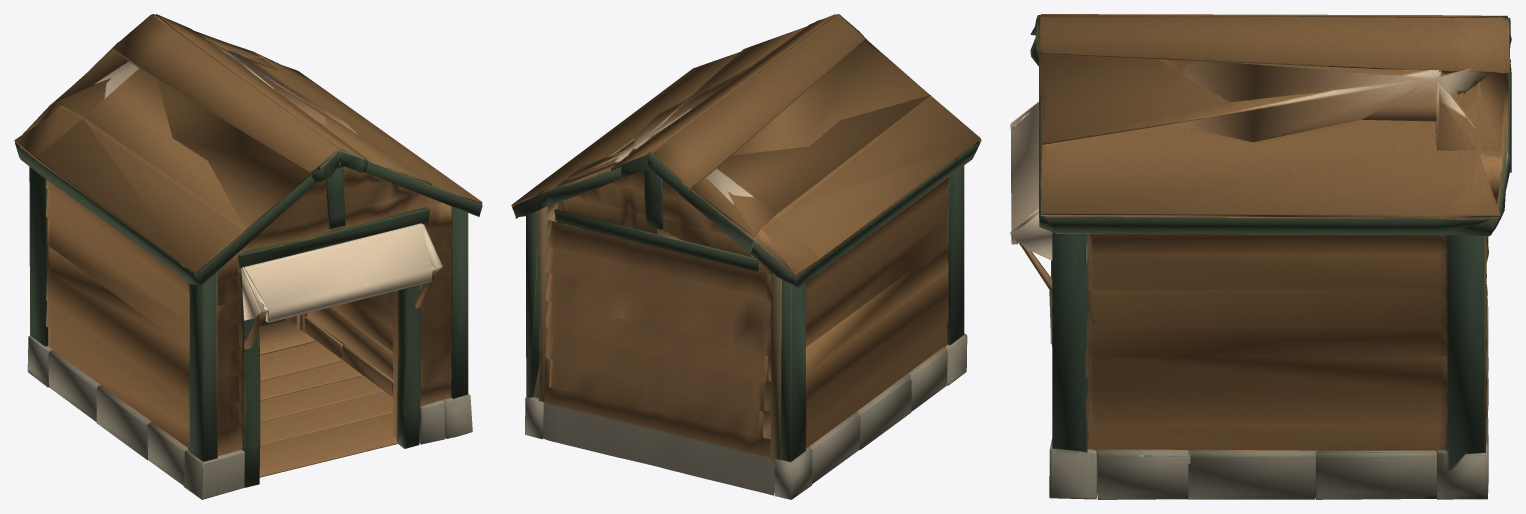
File: AW-VAR-BUILD-004-v0.2.glb
3 renders of one model, left to right at view 1: azimuth 30°, elevation 25°; view 2: azimuth 150°, elevation 25°; view 3: azimuth 270°, elevation 25°, orthographic. The views are drawn at different scales.
Visible parts, largest first — view 1: AW-VAR-BUILD-004_meter_ground_pivot; view 2: AW-VAR-BUILD-004_meter_ground_pivot; view 3: AW-VAR-BUILD-004_meter_ground_pivot.
Part boxes in pixels (<box>): AW-VAR-BUILD-004_meter_ground_pivot: <box>14,14,482,499</box>; AW-VAR-BUILD-004_meter_ground_pivot: <box>511,14,981,499</box>; AW-VAR-BUILD-004_meter_ground_pivot: <box>1010,14,1511,499</box>.
Bounding box in the file's own units: 2.81 × 3 × 3.38.
Materials: 1 (1 with a texture image).
